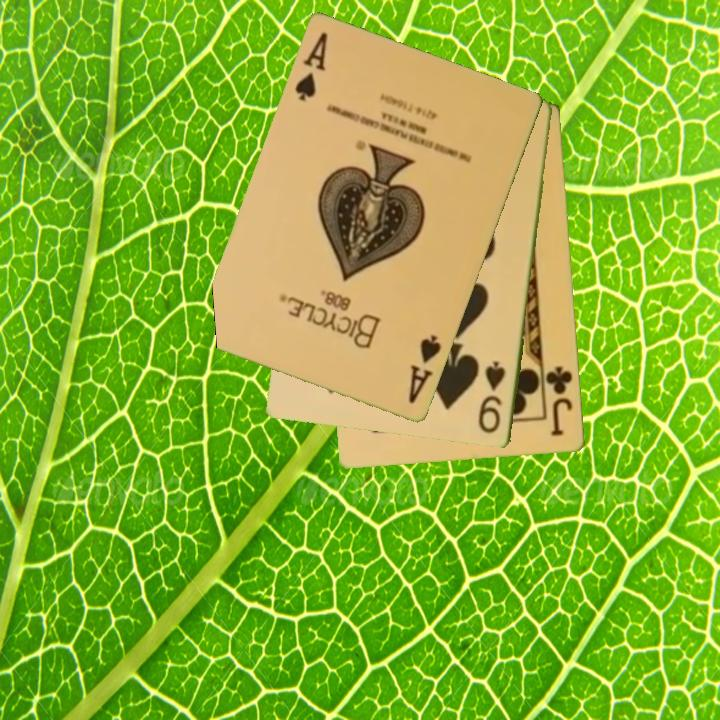9s: (475, 357, 509, 437)
As: (291, 29, 331, 105), (405, 332, 445, 407)
Jc: (542, 363, 576, 440)
